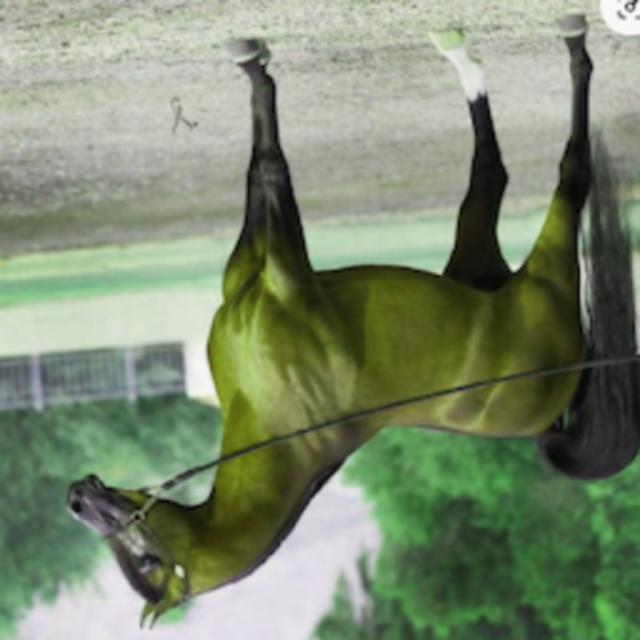Horse: (58, 10, 638, 635)
